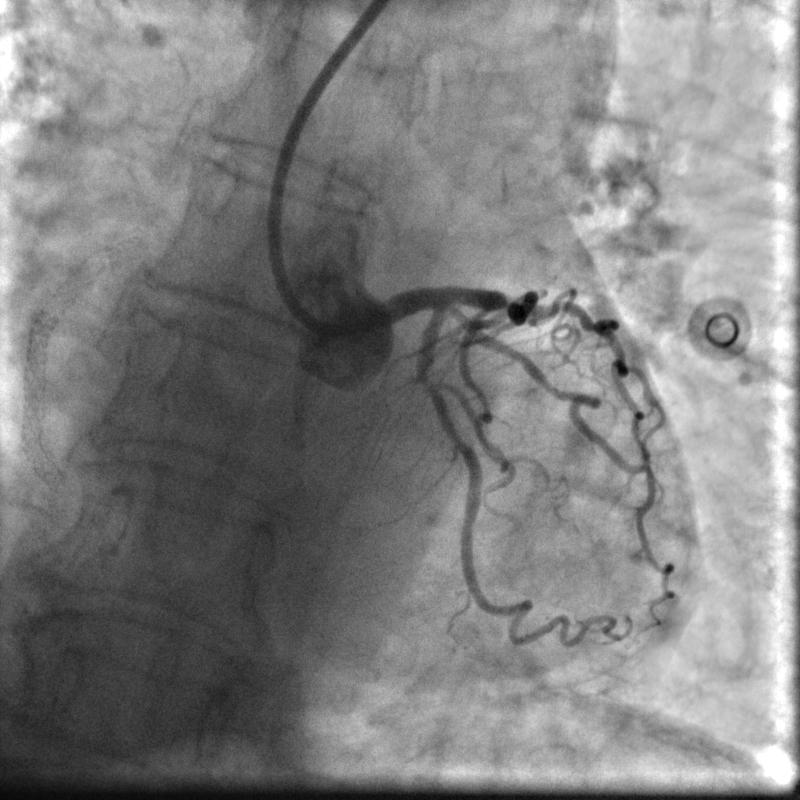Stenosis: (416, 372, 439, 393)
